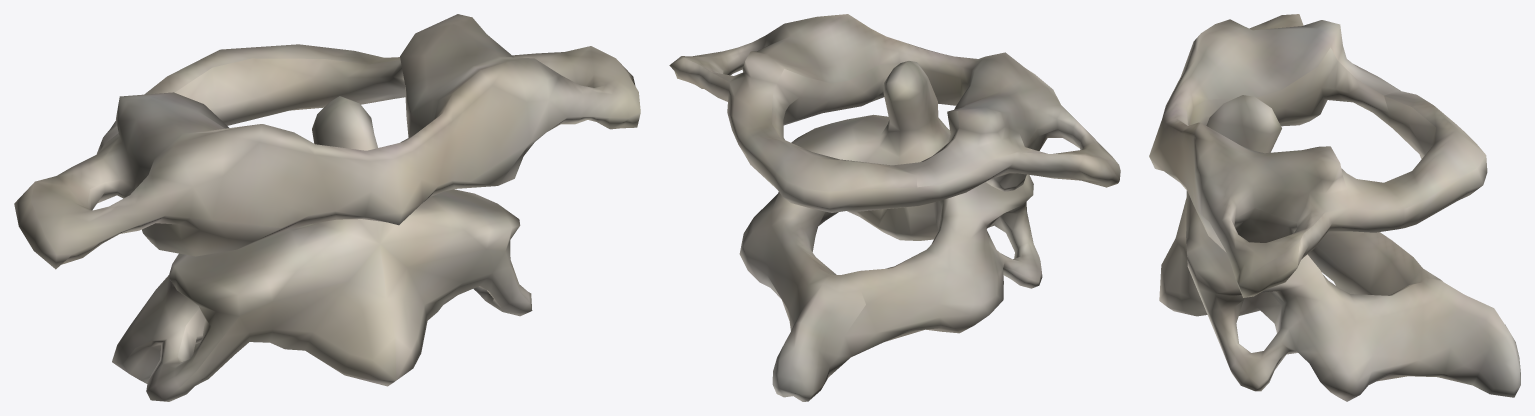
3 renders of one model, left to right at view 1: azimuth 30°, elevation 25°; view 2: azimuth 150°, elevation 25°; view 3: azimuth 270°, elevation 25°, orthographic. The views are drawn at different scales.
Visible parts, largest first — view 1: Atlas__C1__vertebra, Axis__C2__vertebra; view 2: Atlas__C1__vertebra, Axis__C2__vertebra; view 3: Atlas__C1__vertebra, Axis__C2__vertebra.
Boxes of the visible parts, box(x1,y1,x2,y2) form: Atlas__C1__vertebra: box(14, 14, 640, 269); Axis__C2__vertebra: box(112, 96, 532, 401); Atlas__C1__vertebra: box(669, 14, 1120, 212); Axis__C2__vertebra: box(739, 61, 1042, 401); Atlas__C1__vertebra: box(1149, 14, 1487, 297); Axis__C2__vertebra: box(1159, 95, 1520, 401).
Bounding box in the file's own units: 0.0811 × 0.0471 × 0.0505.
2 materials, 2 textured.
